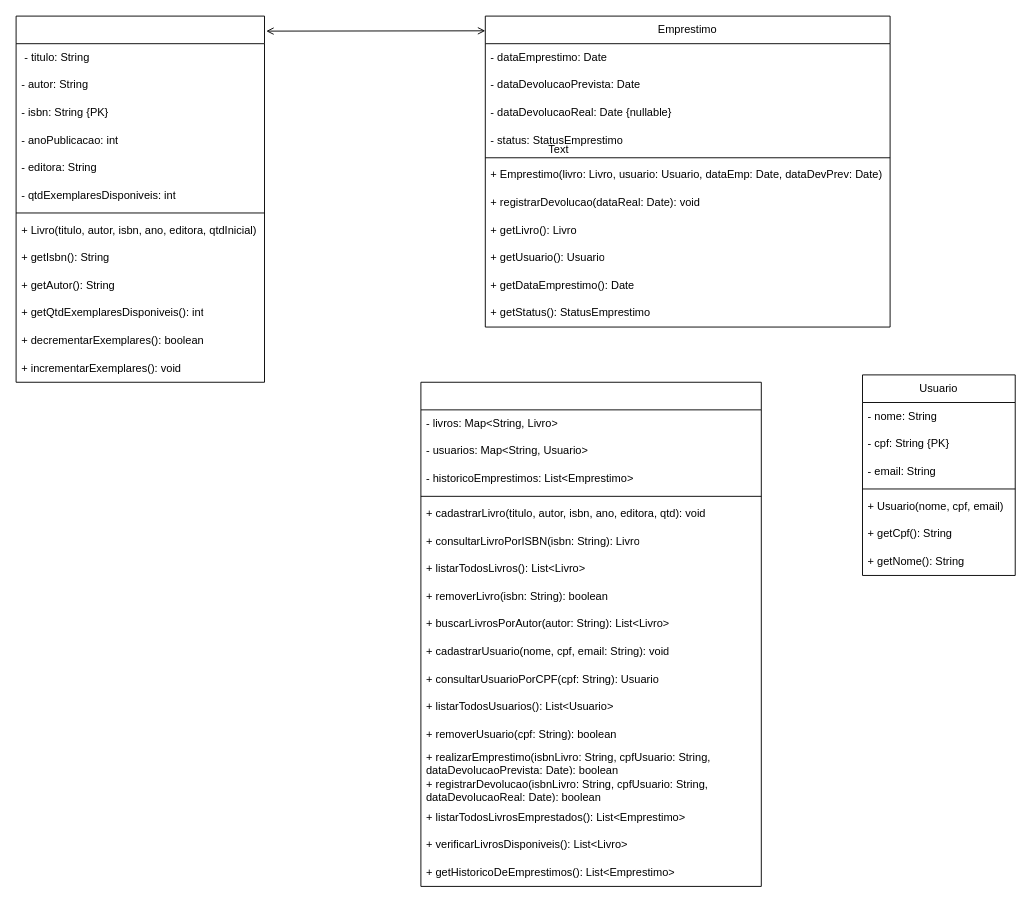
The diagram is 1031 pixels wide and 903 high, and some of its shapes have lost their labels. Here are the shapes that lost their labels. From the top down, the box of each, then its label:
(15, 15, 264, 382): Livros
(420, 381, 761, 886): SistemaBiblioteca
